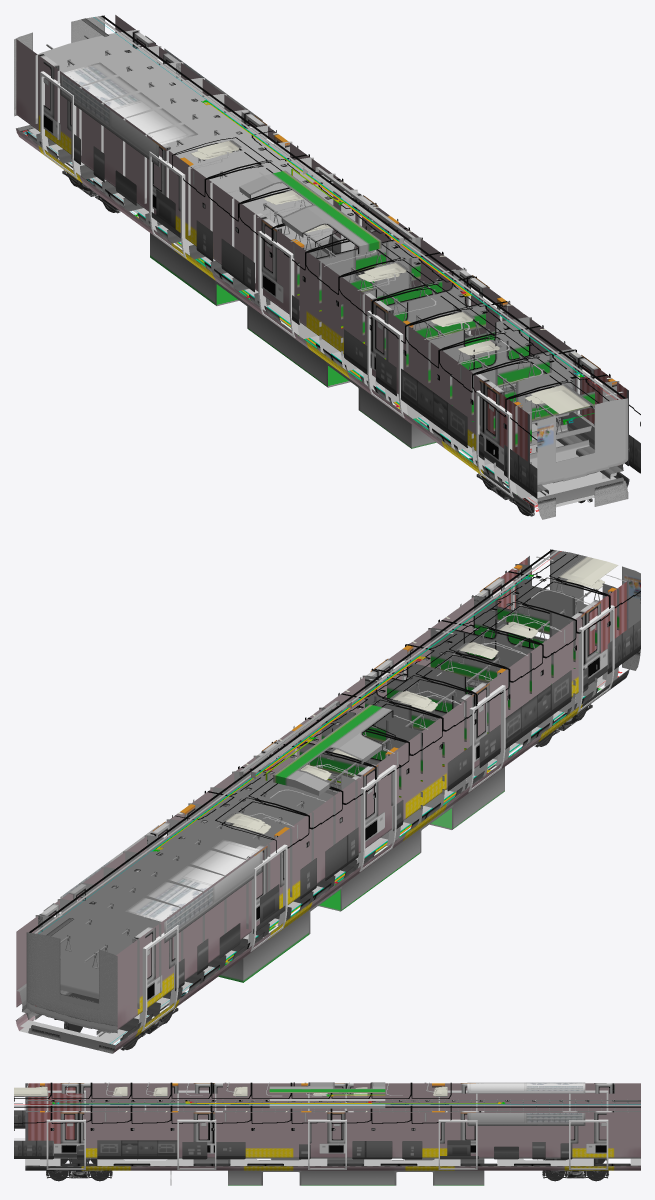
File: m-3_24_i_trailer.obj
3 views of the same model, one above another, from view 1: azimuth 30°, elevation 25°; view 2: azimuth 150°, elevation 25°; view 3: azimuth 270°, elevation 25° (orthographic). The views are drawn at different scales.
Visible parts, largest first — view 1: BD2-24m_body_interior_(type_I), BD4-24m_body_interior_(type_I), BD1-24m_body_exterior_(type_I), HP2-type_m-3E-front, MC1-bottom_machine, BD3-24m_body_interior_(type_I), MC2-top_machine, HP1-type_m-3E-front, HP6-type_m-3E-back, WD2RB, bogie, WD1RB (+2 smaller); view 2: BD4-24m_body_interior_(type_I), BD2-24m_body_interior_(type_I), BD1-24m_body_exterior_(type_I), HP6-type_m-3E-back, MC1-bottom_machine, MC2-top_machine, HP5-type_m-3A-back, BD3-24m_body_interior_(type_I), HP2-type_m-3E-front, HP1-type_m-3E-front, WD2RB, HP5-type_m-3E-back (+3 smaller); view 3: BD2-24m_body_interior_(type_I), BD1-24m_body_exterior_(type_I), MC1-bottom_machine, BD3-24m_body_interior_(type_I), HP6-type_m-3E-back, MC2-top_machine, WD2LB, bogie, BD4-24m_body_interior_(type_I), HP1-type_m-3E-front, HP2-type_m-3E-front, W21LF (+2 smaller).
Part boxes in pixels (box(x1,y1,x2,y2)): BD2-24m_body_interior_(type_I): box(38, 40, 612, 495); BD4-24m_body_interior_(type_I): box(35, 30, 619, 498); BD1-24m_body_exterior_(type_I): box(38, 31, 615, 503); HP2-type_m-3E-front: box(517, 382, 628, 519); MC1-bottom_machine: box(150, 233, 436, 448); BD3-24m_body_interior_(type_I): box(38, 31, 616, 494); MC2-top_machine: box(239, 167, 415, 254); HP1-type_m-3E-front: box(515, 382, 640, 519); HP6-type_m-3E-back: box(14, 15, 135, 143); WD2RB: box(43, 78, 494, 458); bogie: box(57, 156, 592, 516); WD1RB: box(43, 60, 494, 429); BD4-24m_body_interior_(type_I): box(35, 564, 619, 1031); BD2-24m_body_interior_(type_I): box(49, 567, 616, 1028); BD1-24m_body_exterior_(type_I): box(50, 565, 619, 1037); HP6-type_m-3E-back: box(16, 916, 137, 1052); MC1-bottom_machine: box(218, 764, 504, 982); MC2-top_machine: box(239, 701, 395, 795); HP5-type_m-3A-back: box(26, 934, 117, 1026); BD3-24m_body_interior_(type_I): box(38, 565, 616, 1023); HP2-type_m-3E-front: box(519, 549, 640, 670); HP1-type_m-3E-front: box(530, 549, 640, 686); WD2RB: box(147, 625, 596, 1001); HP5-type_m-3E-back: box(15, 916, 137, 1053); BD2-24m_body_interior_(type_I): box(40, 1083, 614, 1165); BD1-24m_body_exterior_(type_I): box(40, 1082, 614, 1170); MC1-bottom_machine: box(170, 1158, 484, 1185); BD3-24m_body_interior_(type_I): box(40, 1083, 614, 1158); HP6-type_m-3E-back: box(615, 1083, 640, 1165); MC2-top_machine: box(269, 1082, 385, 1108); WD2LB: box(66, 1122, 606, 1153); bogie: box(46, 1158, 608, 1181); BD4-24m_body_interior_(type_I): box(40, 1099, 615, 1112); HP1-type_m-3E-front: box(14, 1087, 39, 1170); HP2-type_m-3E-front: box(14, 1083, 39, 1140); W21LF: box(54, 1122, 588, 1153).
Size of the model in its own units: 2.8 by 3.47 by 24.
Materials: 4 (3 with a texture image).
